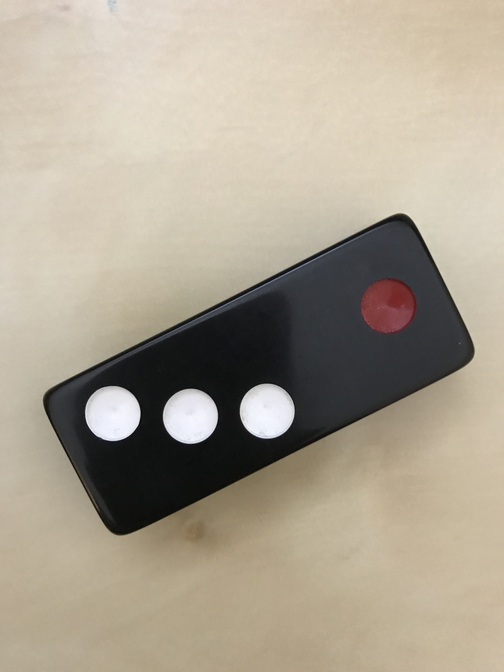goose: (44, 214, 473, 537)
